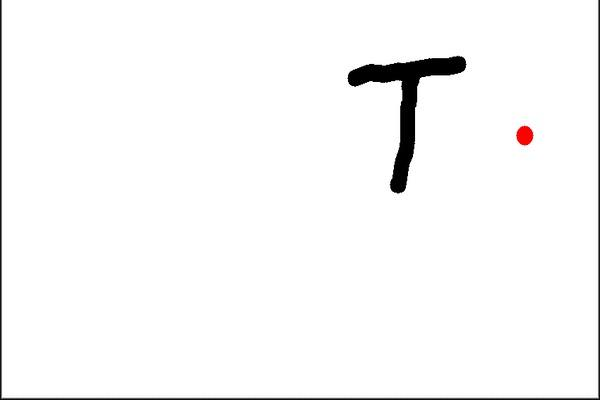T: (334, 50, 474, 196)
